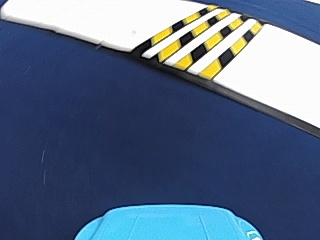bump: (134, 7, 257, 76)
